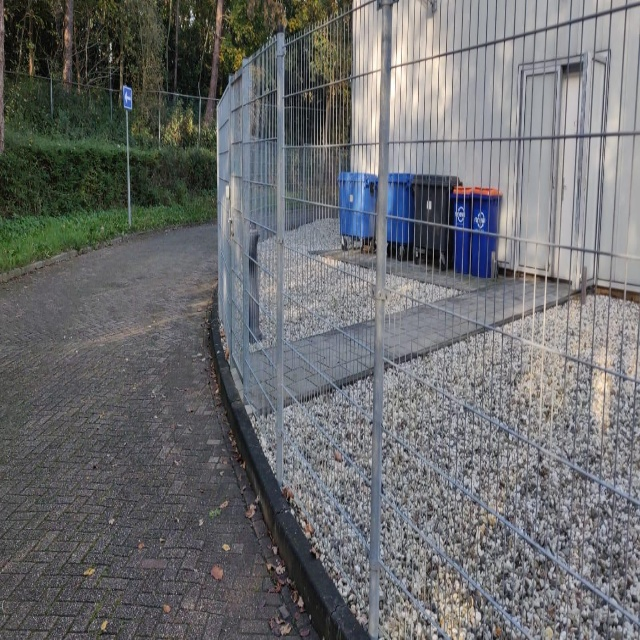obstacle: (109, 204, 551, 414), (0, 208, 131, 454)
